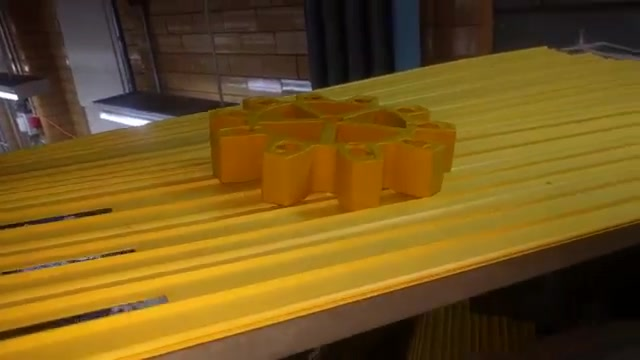gear: (201, 82, 465, 209)
